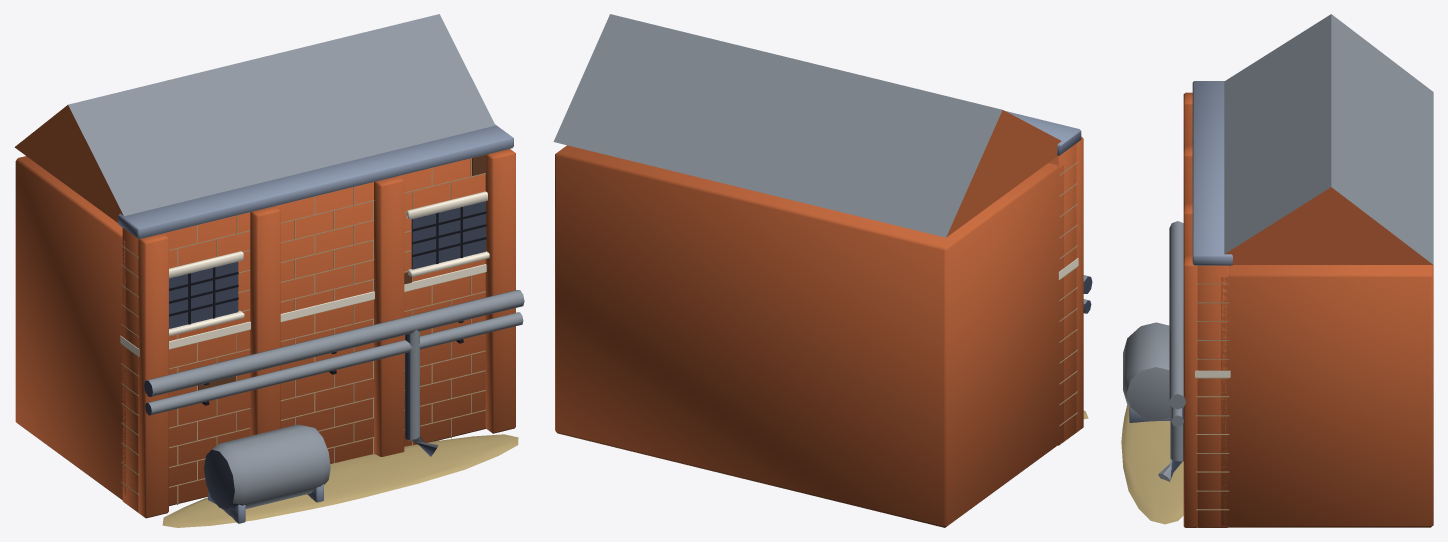
File: FactoryWallC.fbx
3 renders of one model, left to right at view 1: azimuth 30°, elevation 25°; view 2: azimuth 150°, elevation 25°; view 3: azimuth 270°, elevation 25°, orthographic. The views are drawn at different scales.
Parts seen in each view (by area): view 1: FactoryWallC; view 2: FactoryWallC; view 3: FactoryWallC.
Boxes of the visible parts, <box> form: FactoryWallC: <box>14,14,524,527</box>; FactoryWallC: <box>553,14,1092,527</box>; FactoryWallC: <box>1121,14,1433,527</box>.
Bounding box in the file's own units: 7.7 × 7 × 5.8.
1 material, 1 textured.
